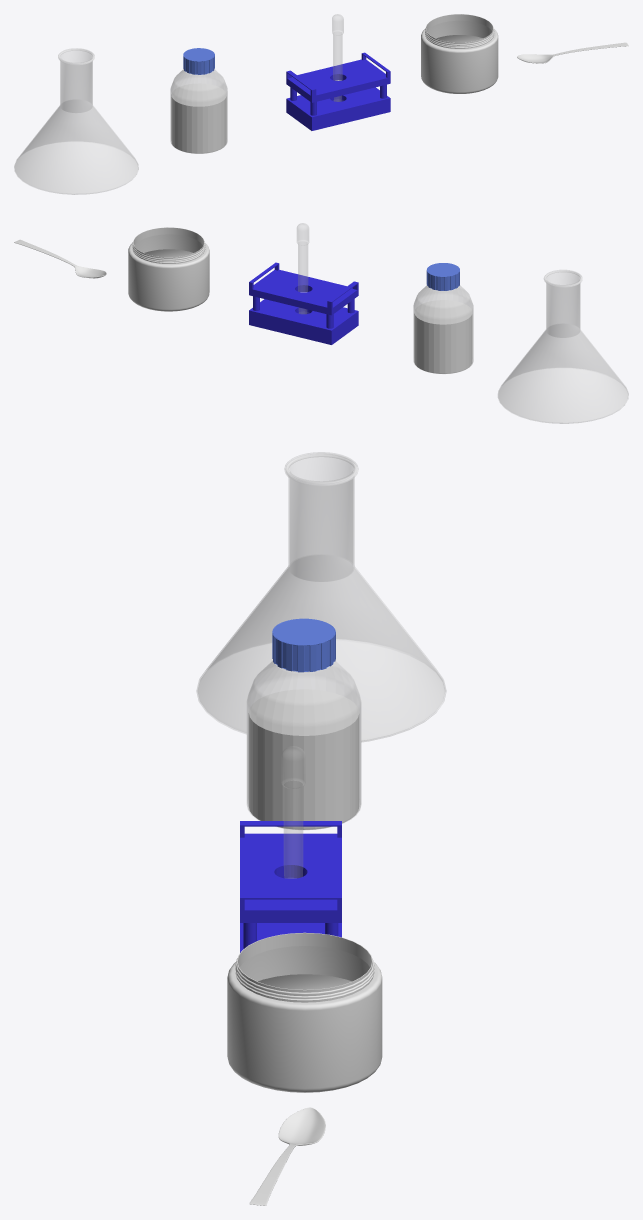
The model's file is chemical reaction.fbx.
The picture shows the model from 3 angles, top to bottom: view 1: azimuth 30°, elevation 25°; view 2: azimuth 150°, elevation 25°; view 3: azimuth 270°, elevation 25°; orthographic projection. The views are drawn at different scales.
Parts seen in each view (by area): view 1: Circle.039, stand 2.004, Circle.045, Circle.041, Circle.043, Circle.042, Circle.044, Spoon, Circle.046; view 2: Circle.039, stand 2.004, Circle.045, Circle.041, Circle.043, Circle.042, Circle.044, Spoon, Circle.046; view 3: Circle.039, Circle.045, Circle.041, Circle.043, stand 2.004, Circle.042, Circle.044, Spoon, Circle.046.
Boxes of the visible parts, box(x1,y1,x2,y2) form: Circle.039: box(14, 48, 138, 194); stand 2.004: box(286, 52, 390, 130); Circle.045: box(421, 14, 498, 93); Circle.041: box(170, 69, 227, 153); Circle.043: box(171, 83, 226, 153); Circle.042: box(183, 48, 214, 74); Circle.044: box(332, 14, 343, 101); Spoon: box(517, 42, 628, 63); Circle.046: box(436, 35, 482, 42); Circle.039: box(498, 270, 628, 423); stand 2.004: box(249, 262, 358, 344); Circle.045: box(128, 227, 209, 311); Circle.041: box(413, 285, 473, 373); Circle.043: box(414, 300, 472, 373); Circle.042: box(426, 263, 459, 290); Circle.044: box(297, 223, 308, 313); Spoon: box(14, 239, 106, 278); Circle.046: box(144, 249, 193, 257); Circle.039: box(196, 452, 446, 741); Circle.045: box(227, 932, 382, 1092); Circle.041: box(247, 661, 361, 829); Circle.043: box(248, 689, 359, 829); stand 2.004: box(240, 821, 341, 952); Circle.042: box(272, 618, 335, 672); Circle.044: box(281, 746, 305, 878); Spoon: box(249, 1107, 325, 1205); Circle.046: box(258, 974, 351, 989).
Size of the model in its own units: 162 by 29.81 by 29.71.
